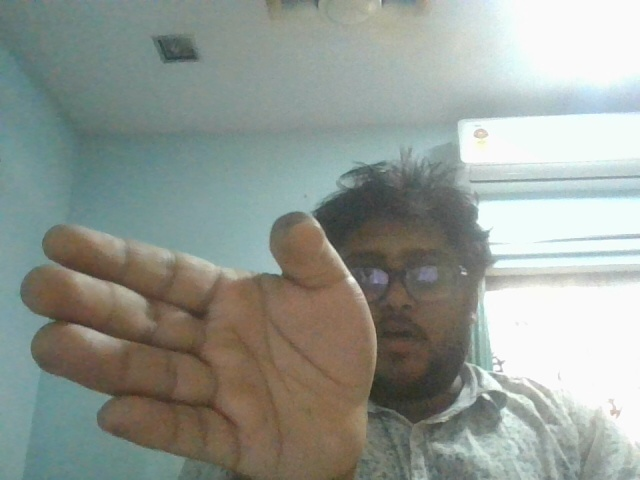RIGHT: (29, 168, 384, 480)
